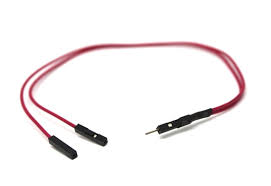led: (30, 70, 216, 132)
